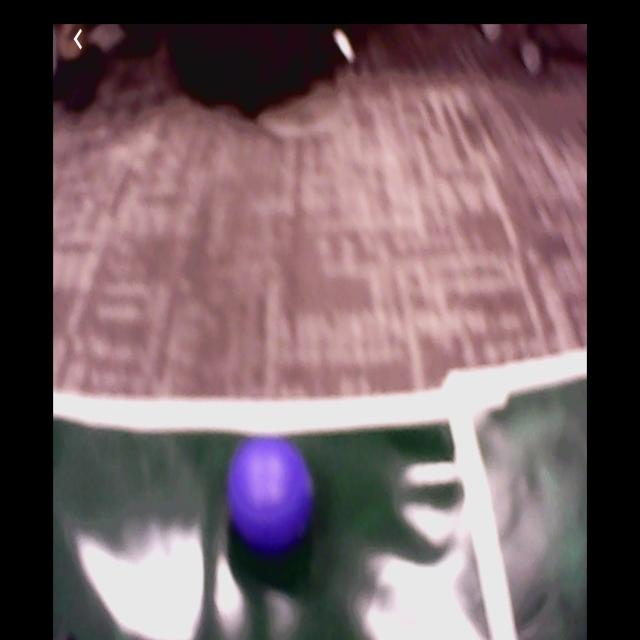ball: (227, 433, 315, 553)
